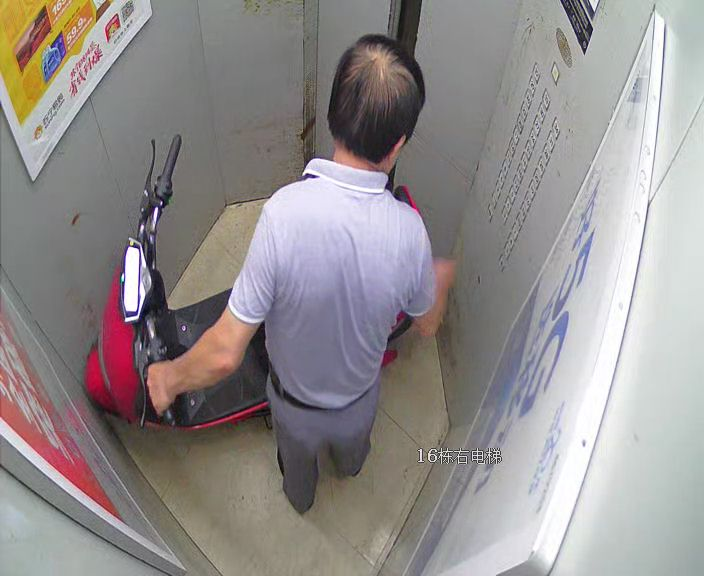Electric-bicycle: (88, 134, 418, 438)
